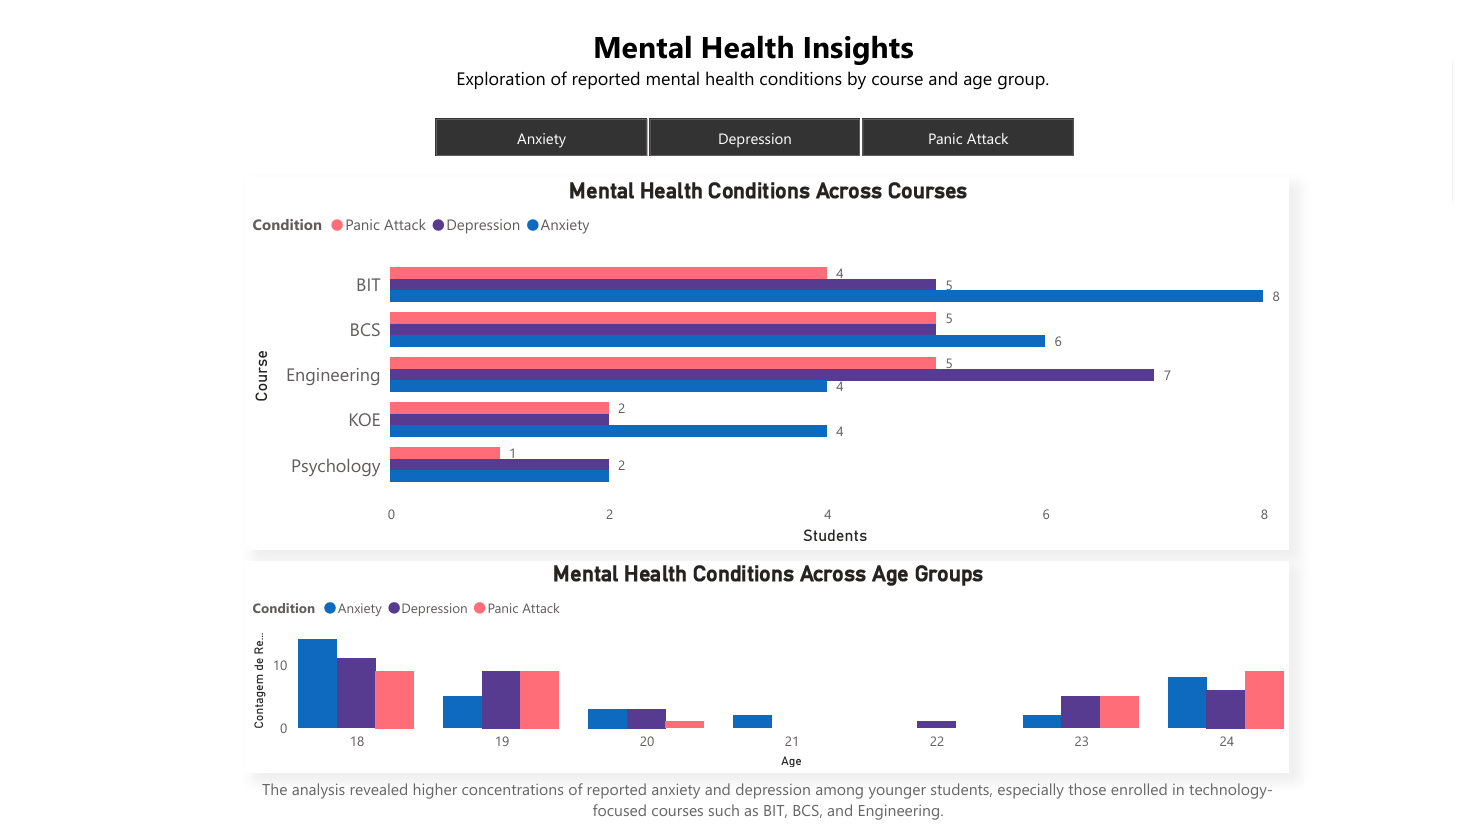

What the dashboard file says about the page in this screenshot:
{"tool":"powerbi","page":{"name":"Página 2","canvas":[1280,720],"ordinal":1},"visuals":[{"type":"clusteredBarChart","title":"Mental Health Conditions Across Courses","fields":{"Category":["Student Mental health.Course"],"Series":["Student Mental health.Condition"],"Y":["CountNonNull(Student Mental health.Response)"]},"box":[208.1,139.5,926.7,331.4],"z":0},{"type":"clusteredColumnChart","title":"Mental Health Conditions Across Age Groups","fields":{"Category":["Student Mental health.Age"],"Y":["CountNonNull(Student Mental health.Response)"],"Series":["Student Mental health.Condition"]},"box":[208.1,481.4,926.7,187.2],"z":2000},{"type":"slicer","fields":{"Values":["Student Mental health.Condition"]},"box":[350,81.4,617.4,46.5],"z":3000},{"type":"textbox","box":[208.1,668.6,926.7,51.2],"z":4000},{"type":"textbox","box":[322.1,0,672.1,81.4],"z":5000}]}

Visuals, with their boxes in screenshot pixels (x1, y1, x2, y2), scaled from the page's 1280x720 canvas onto the 1460x838 screenshot:
"Mental Health Conditions Across Courses" clusteredBarChart: bbox=[237, 162, 1294, 548]
"Mental Health Conditions Across Age Groups" clusteredColumnChart: bbox=[237, 560, 1294, 778]
slicer - Student Mental health.Condition: bbox=[399, 95, 1103, 149]
textbox: bbox=[237, 778, 1294, 837]
textbox: bbox=[367, 0, 1134, 95]
